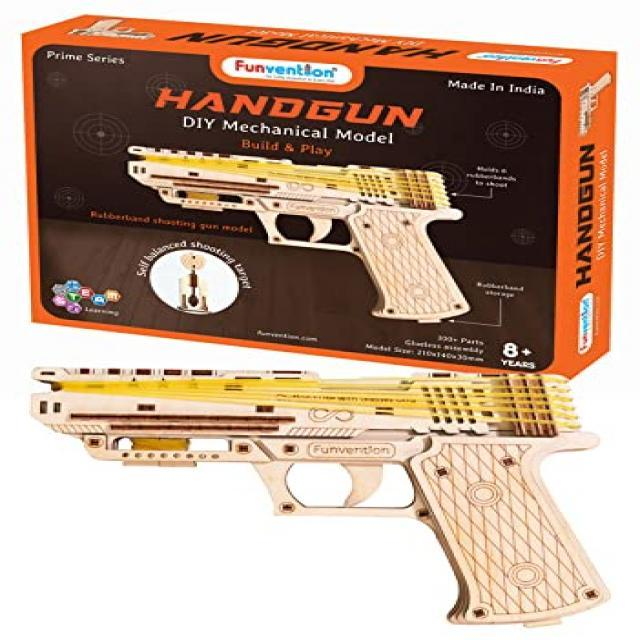pistol: (27, 354, 613, 630), (126, 141, 486, 327)
